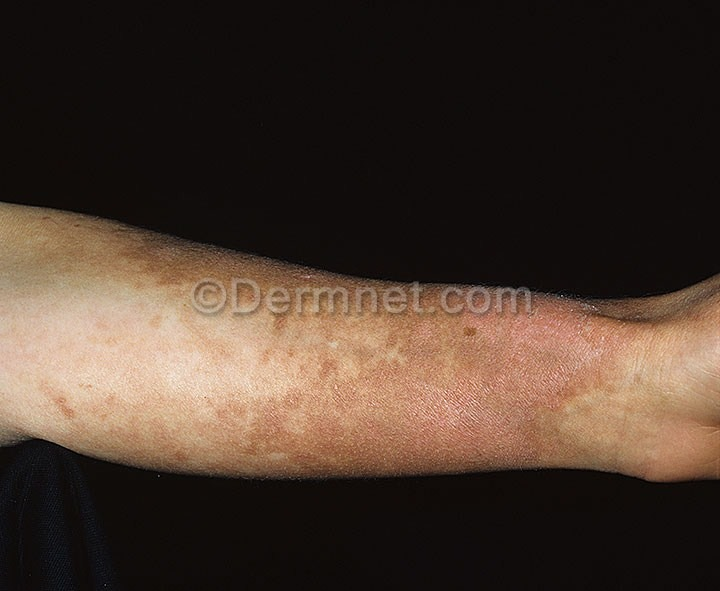Melasma: (153, 319, 626, 482), (107, 229, 330, 278)
